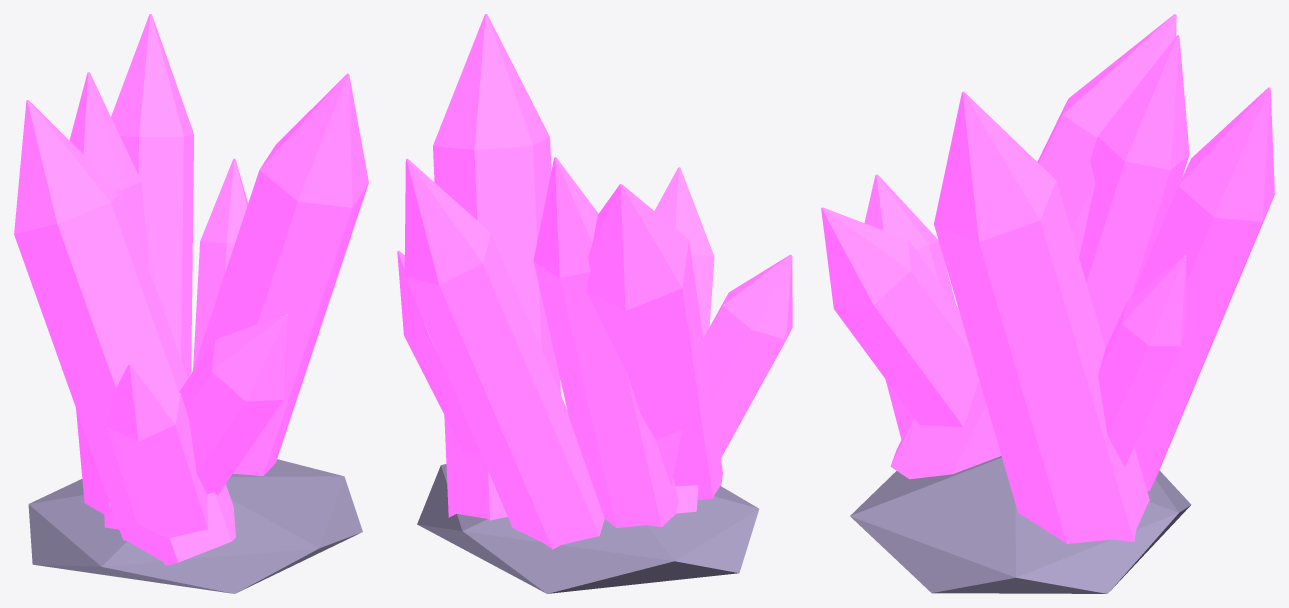
Rendered from crystals_mag.glb.
3 views of the same model, side by side, from view 1: azimuth 30°, elevation 25°; view 2: azimuth 150°, elevation 25°; view 3: azimuth 270°, elevation 25° (orthographic). The views are drawn at different scales.
Visible parts, largest first — view 1: crystals_mag; view 2: crystals_mag; view 3: crystals_mag.
Boxes of the visible parts, x1,y1,x2,y2 form: crystals_mag: (14,14,368,593); crystals_mag: (397,14,792,593); crystals_mag: (821,14,1274,593).
Bounding box in the file's own units: 6.1 × 8.62 × 6.95.
